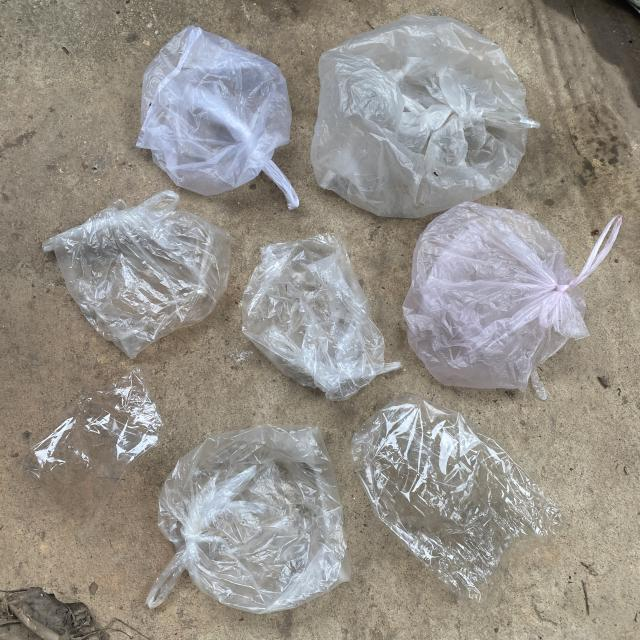Single-layer Plastic: (311, 15, 539, 218), (351, 394, 561, 602), (402, 202, 622, 399), (146, 425, 350, 614), (42, 191, 230, 358), (136, 26, 299, 209), (242, 234, 401, 400), (24, 368, 164, 532)
